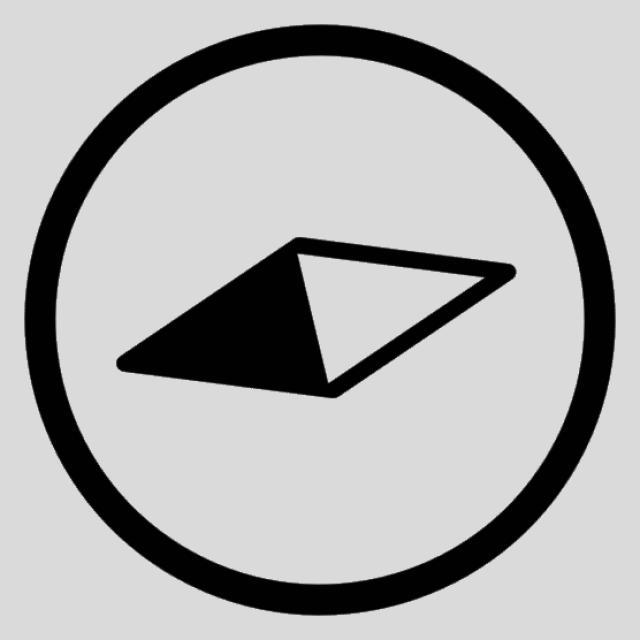compass: (14, 18, 630, 632)
